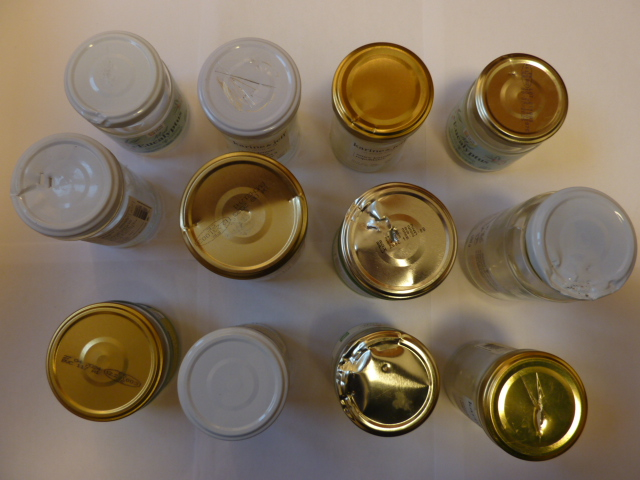damaged: (177, 152, 308, 277)
intact: (44, 302, 163, 422)
